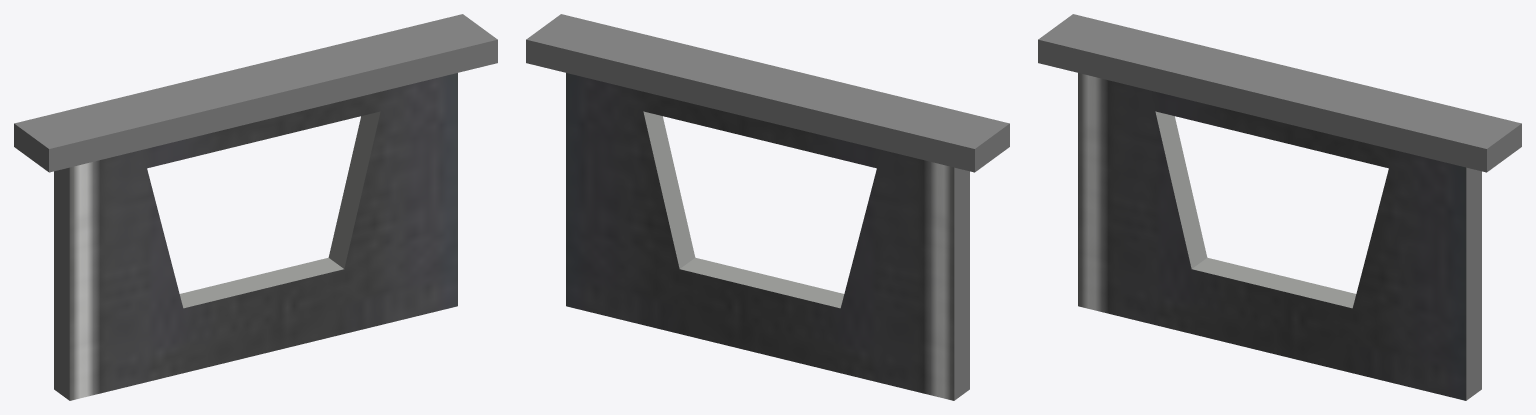
Rendered from platform.fbx.
3 renders of one model, left to right at view 1: azimuth 30°, elevation 25°; view 2: azimuth 150°, elevation 25°; view 3: azimuth 330°, elevation 25°, orthographic.
Parts seen in each view (by area): view 1: Cube.013; view 2: Cube.013; view 3: Cube.013.
Part boxes in pixels (x1=…): Cube.013: x1=14, y1=14, x2=497, y2=400; Cube.013: x1=526, y1=14, x2=1009, y2=400; Cube.013: x1=1038, y1=14, x2=1521, y2=400.
Bounding box in the file's own units: 115 × 65.08 × 15.5.
